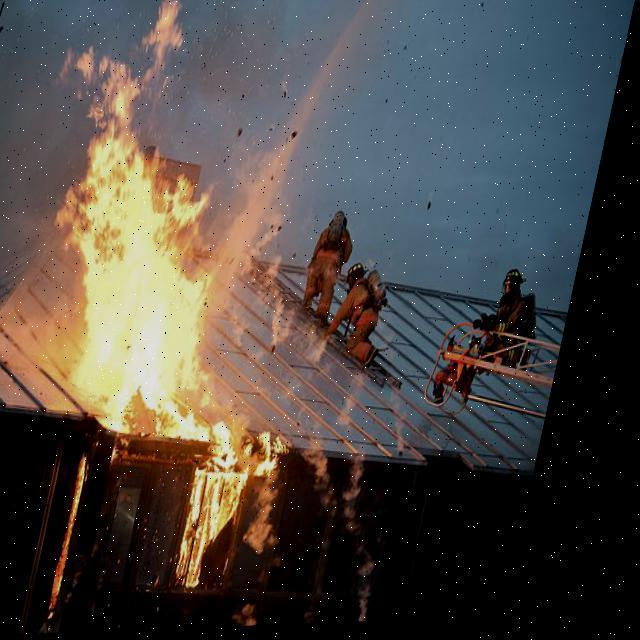Fire: (41, 117, 272, 429), (192, 422, 288, 592)
